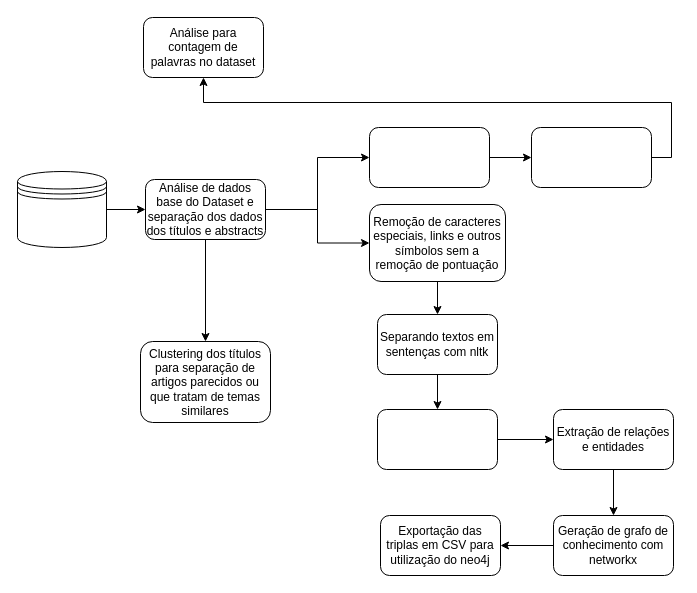
Some shapes in this 697 by 593 pixel diagram are drawn without their labels. The shapes that lost their labels are listed below. From the top down, each one's centre as x and y in pixels, then its label:
the point at 429,157: Remoção de caracteres especiais, links, outros símbolos e pontuação
the point at 591,157: Remoção de Stopwords em inglês com nltk
the point at 61,209: CORD-19
the point at 437,439: Análise sintática das sentenças com Spacy
